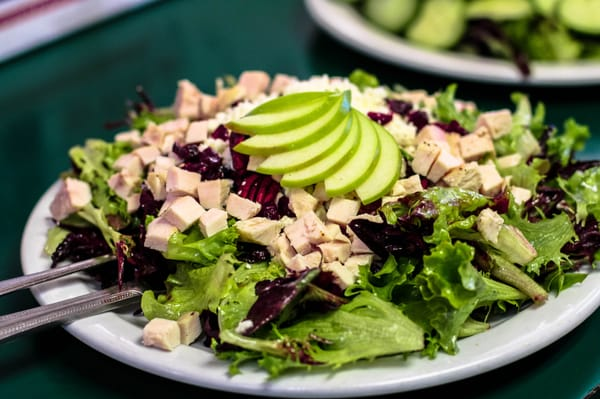burger: (0, 284, 143, 346), (0, 253, 116, 300)
sushi: (303, 0, 600, 102)
